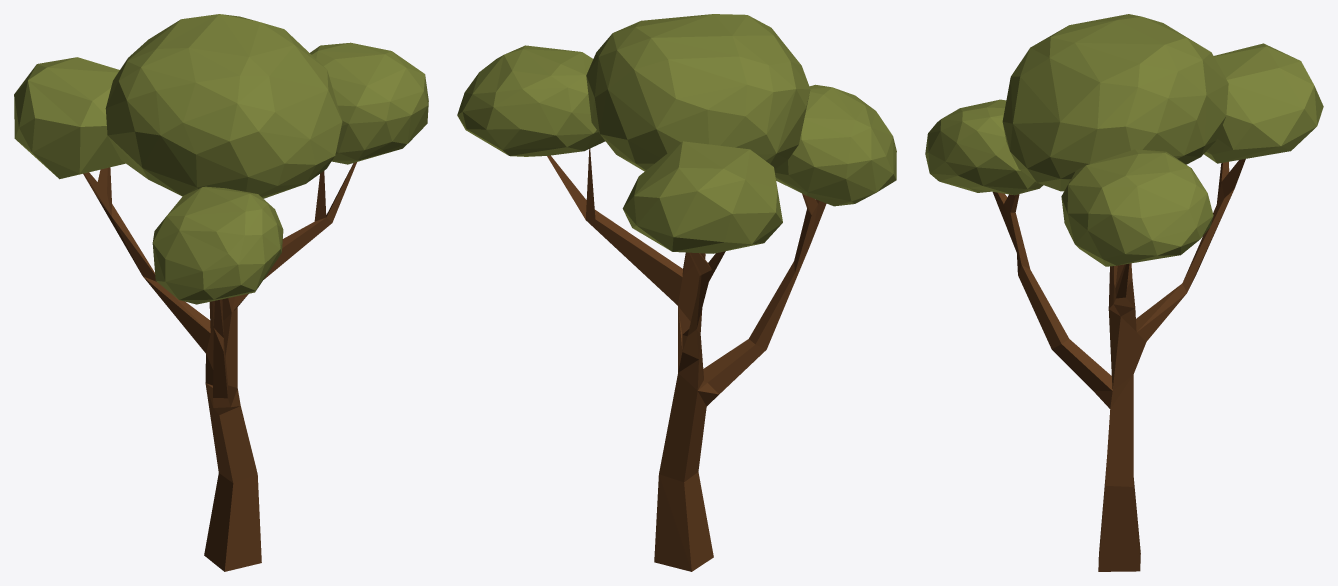
The model's file is tree2.fbx.
3 renders of one model, left to right at view 1: azimuth 30°, elevation 25°; view 2: azimuth 150°, elevation 25°; view 3: azimuth 270°, elevation 25°, orthographic. The views are drawn at different scales.
Visible parts, largest first — view 1: tree2; view 2: tree2; view 3: tree2.
Boxes of the visible parts, left/top/right/bottom form: tree2: left=14, top=14, right=428, bottom=571; tree2: left=457, top=14, right=896, bottom=571; tree2: left=925, top=14, right=1323, bottom=571.
Size of the model in its own units: 670 by 961 by 663.
